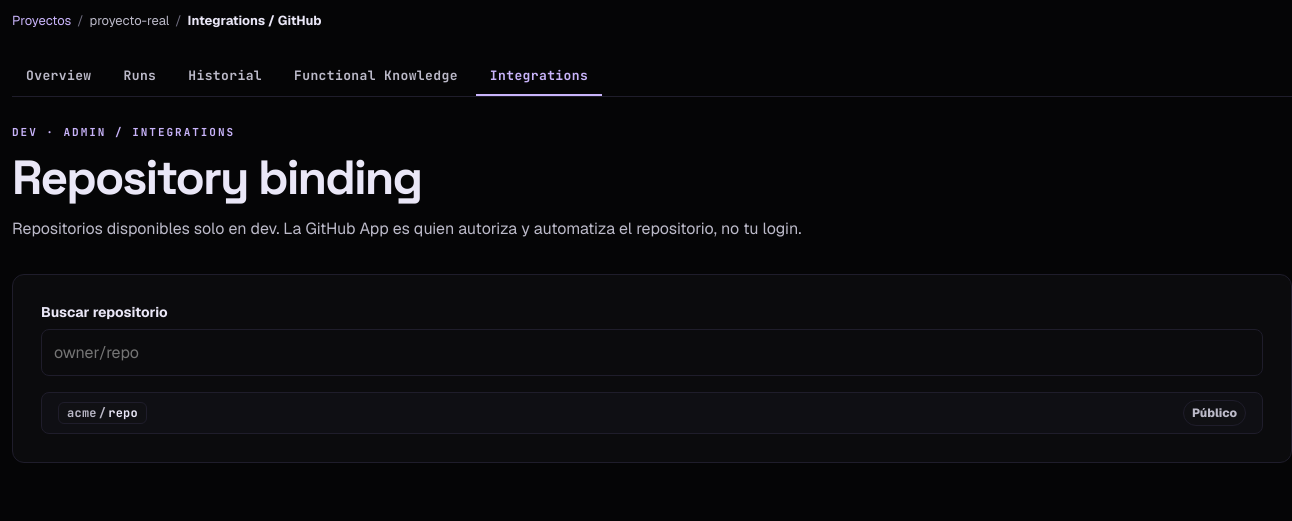
HU64: en live REPOSITORY_OUTSIDE_WORKSPACE al vincular muestra su mensaje claro con correlationId y sin el mensaje crudo de Core
The image size is (1292, 521).
Click the button "acme / repo Público" at (102, 413), box [41,392,1263,434]
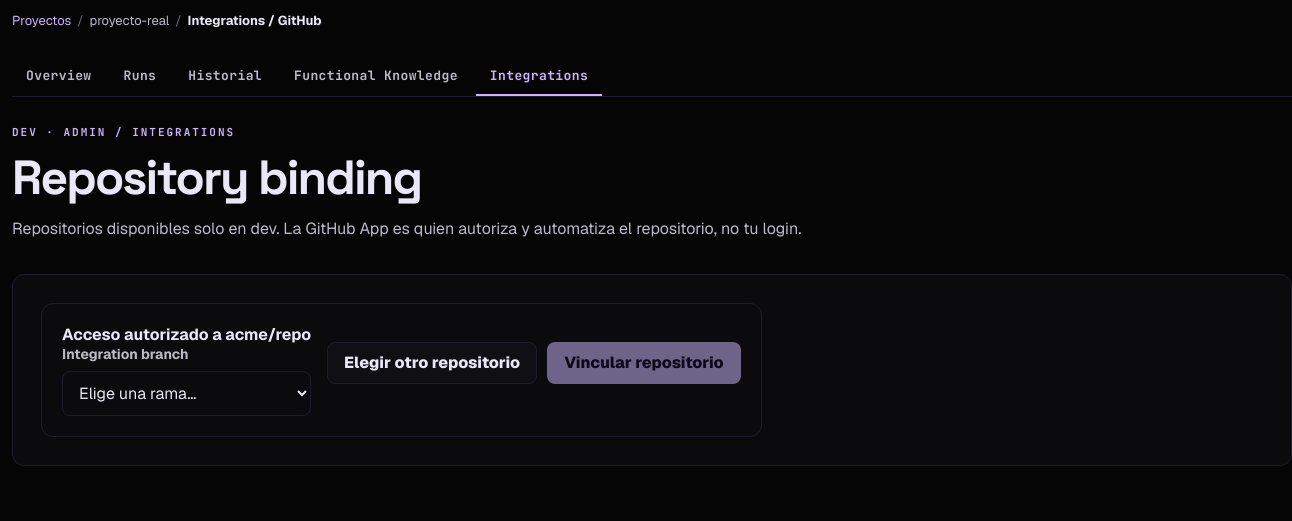
Select "main (protegida)" in the dropdown labelled "Integration branch" at (186, 393), box [62,371,311,416]
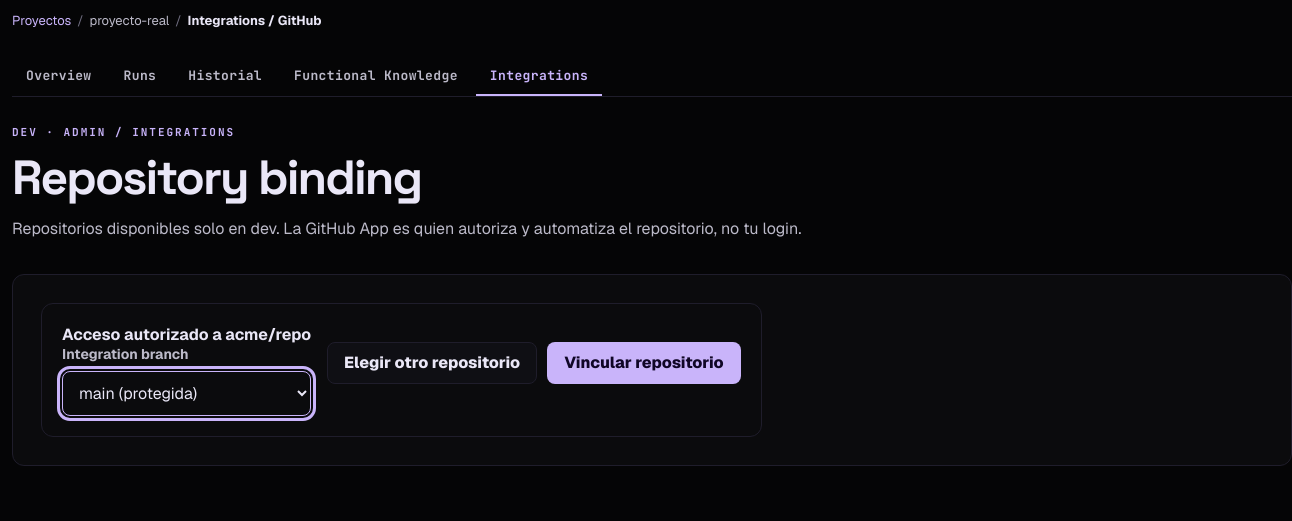
Click the button "Vincular repositorio" at (644, 363), box [547,342,741,384]
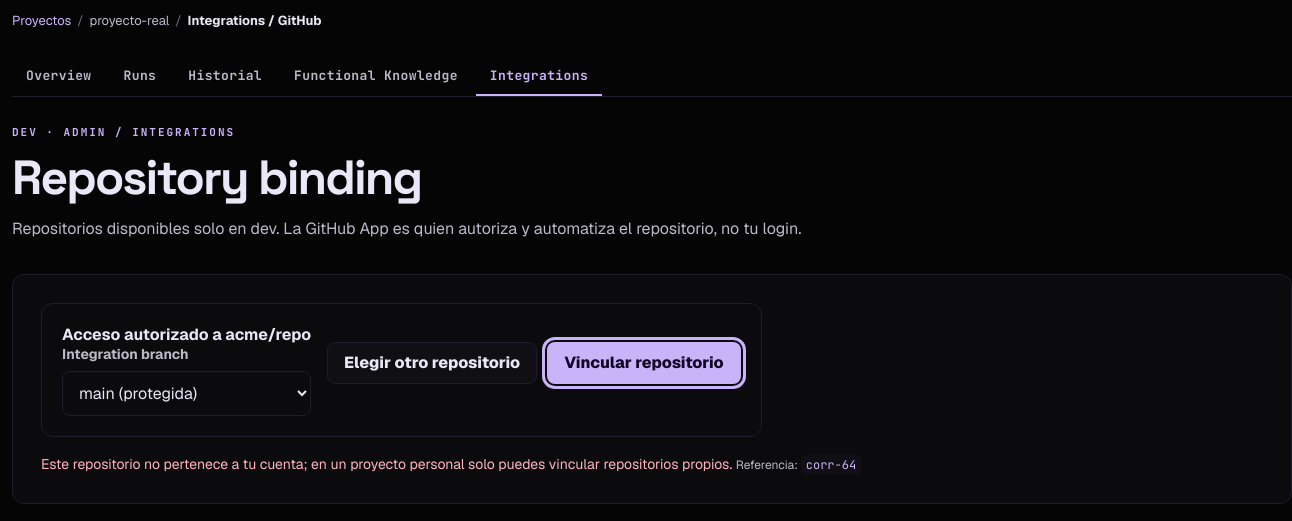
Expected: the message does not show "mensaje crudo de Core", [41,453,861,475]
Expected: the message shows "Este repositorio no pertenece a tu cuenta; en un proyecto personal solo puedes vincular repositorios propios.", [41,455,732,473]
Expected: the message shows "corr-64", [806,457,856,473]
